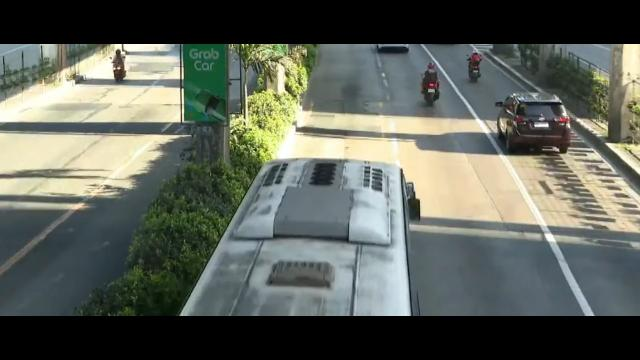bus: (180, 157, 423, 319)
car: (497, 91, 572, 157)
motorcycle: (421, 63, 441, 105), (466, 50, 483, 84), (111, 49, 128, 82)
